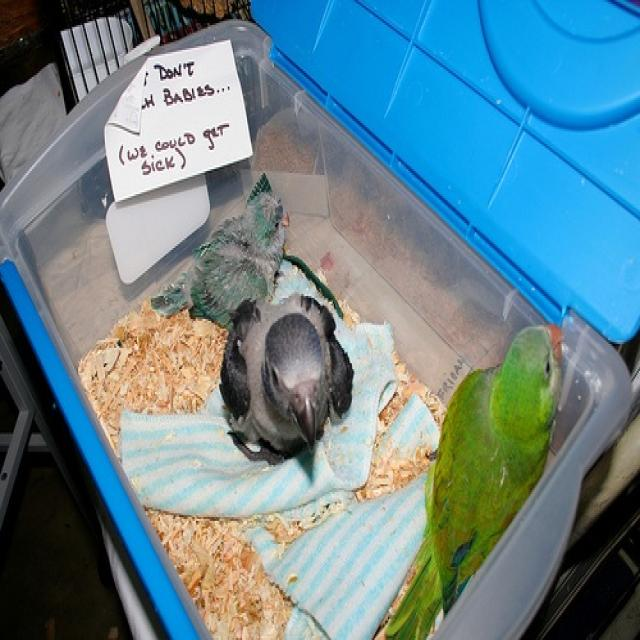bird: (382, 323, 564, 638), (222, 286, 354, 465), (151, 190, 289, 325)
